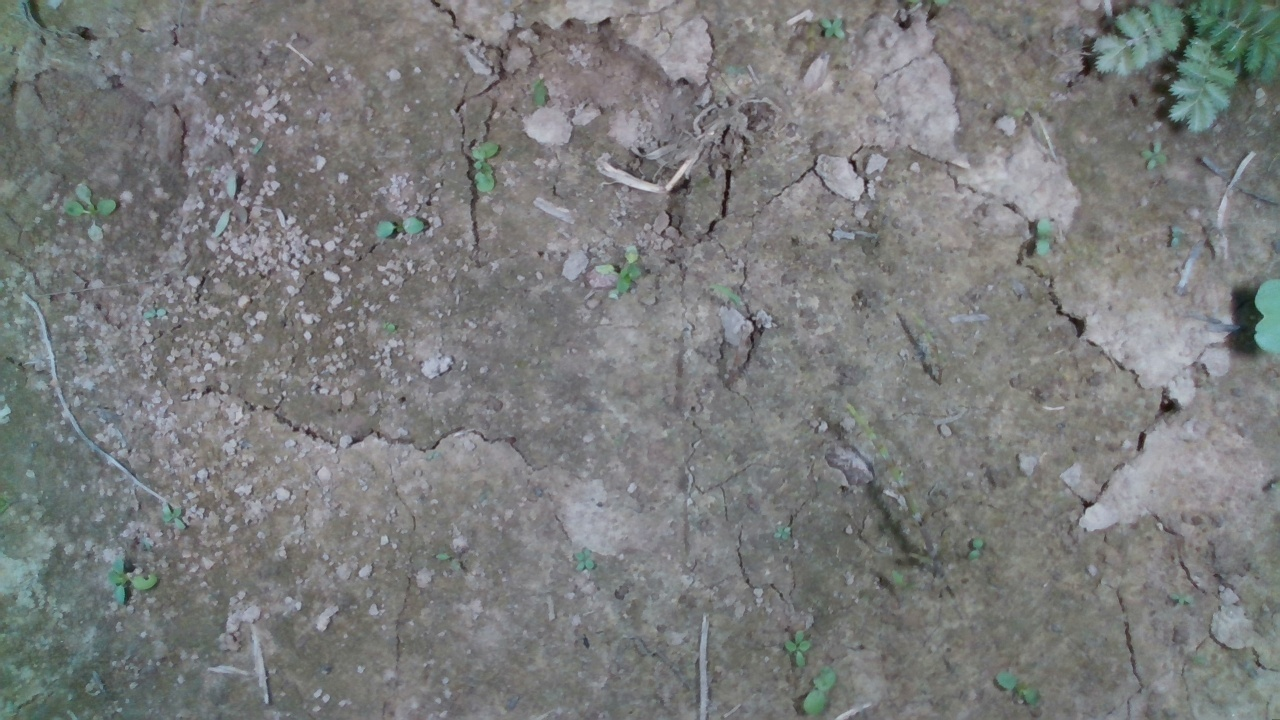weed: (60, 181, 120, 241), (994, 668, 1043, 707), (801, 668, 836, 717), (374, 215, 426, 238), (782, 627, 811, 668), (1139, 137, 1168, 171), (160, 501, 186, 530), (1034, 216, 1052, 257), (570, 545, 596, 573)
